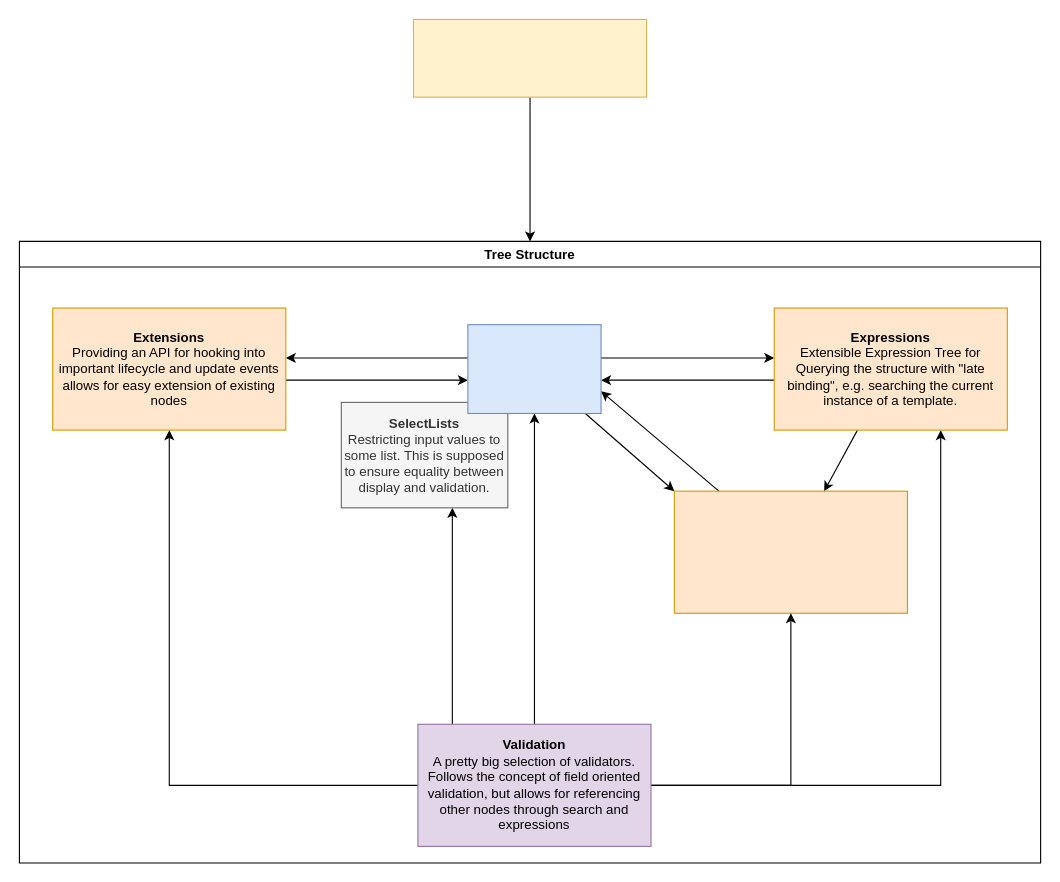
The diagram is 1060 pixels wide and 882 high, and some of its shapes have lost their labels. Here are the shapes that lost their labels. From the top down, the centre of each, then its label:
the point at 529,57: Building Flow API for buillding the structure and configuring each node
the point at 534,368: Nodes Hierarchical Tree Structure
the point at 790,551: Search Defining what Node can see which other nodes
